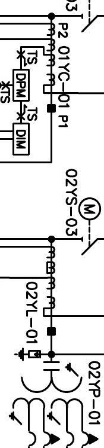115_1way_ds_w_motor: (78, 197, 102, 256)
115_cvt_1p: (8, 361, 99, 448)
115_la: (14, 347, 41, 362)
DIM: (12, 122, 30, 156)
DPM: (12, 68, 30, 102)
